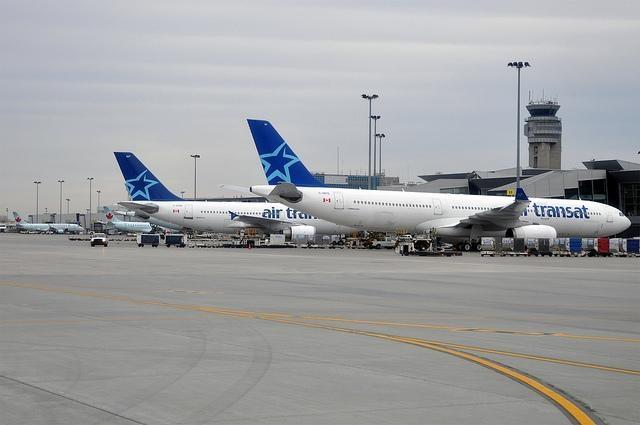car: (372, 237, 396, 248)
truck: (136, 232, 161, 250), (164, 233, 187, 248), (90, 232, 110, 248)
